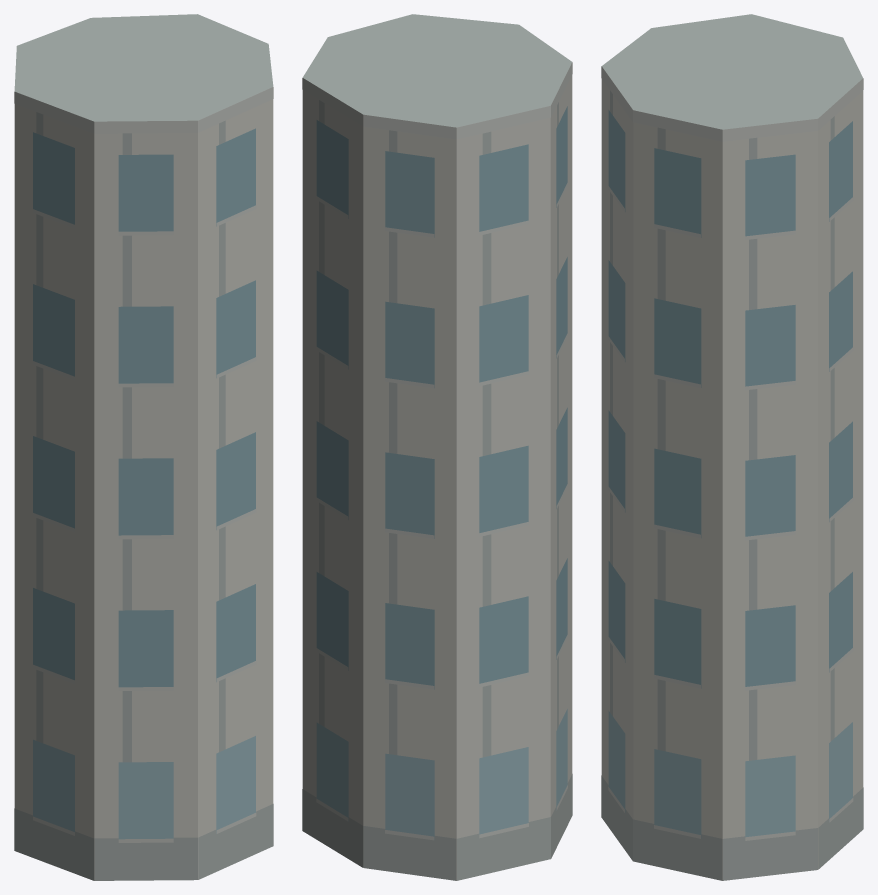
The model's file is survey-upis-32645773.glb.
3 views of the same model, side by side, from view 1: azimuth 30°, elevation 25°; view 2: azimuth 150°, elevation 25°; view 3: azimuth 270°, elevation 25° (orthographic).
Parts seen in each view (by area): view 1: survey-upis-32645773.tmp; view 2: survey-upis-32645773.tmp; view 3: survey-upis-32645773.tmp.
Part boxes in pixels (x1,y1,x2,y2): survey-upis-32645773.tmp: (14,14,273,880); survey-upis-32645773.tmp: (302,14,572,880); survey-upis-32645773.tmp: (601,14,863,880).
Bounding box in the file's own units: 5.04 × 15.25 × 4.83.
